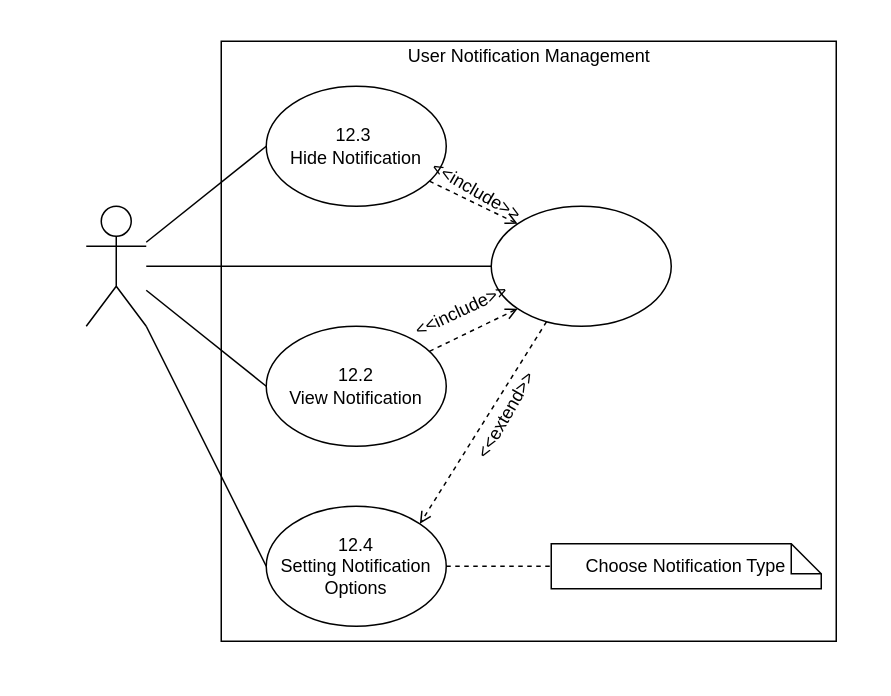
The diagram is 891 pixels wide and 696 high, and some of its shapes have lost their labels. Each missing label, with the centre of its shape:
"12.1. View NotificationList" belongs at point 580,265.
"User" belongs at point 115,265.
